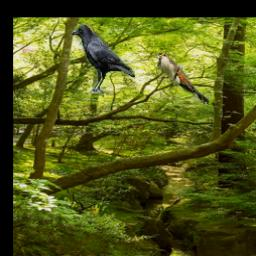Crow: (71, 24, 135, 94)
Cuckoo: (158, 53, 210, 105)
